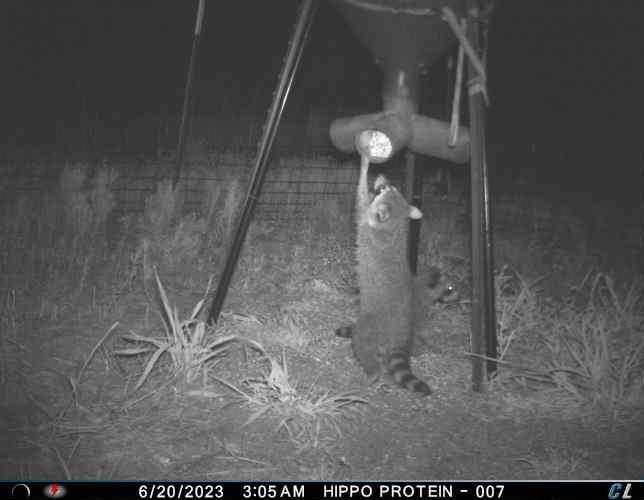Raccoon: (332, 163, 435, 395), (330, 259, 456, 341)
